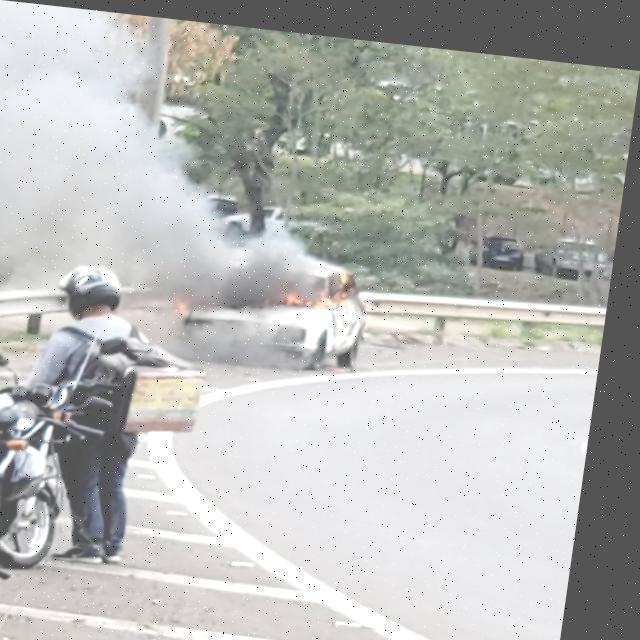Fire: (287, 278, 340, 299), (177, 288, 200, 308)
